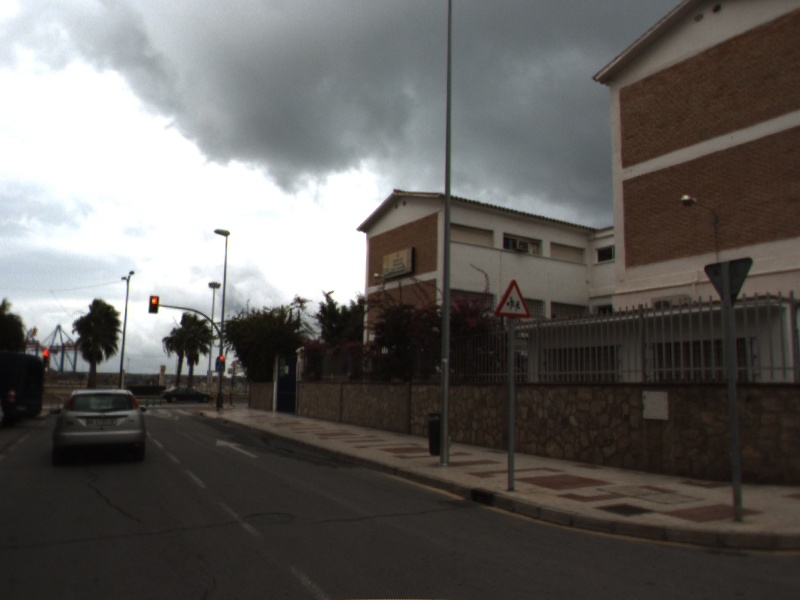STRAIGHT: (214, 436, 260, 460)
